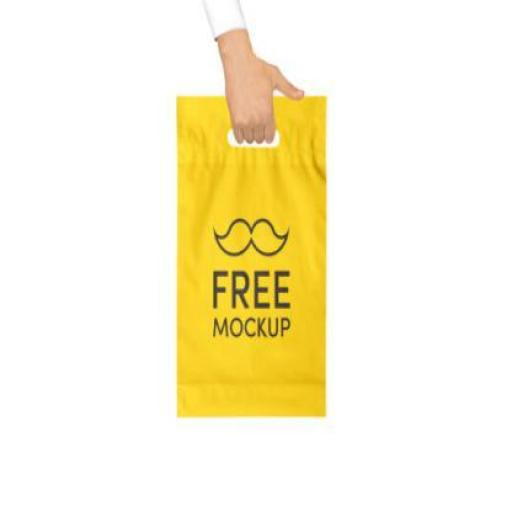plastic bag: (161, 86, 342, 425)
